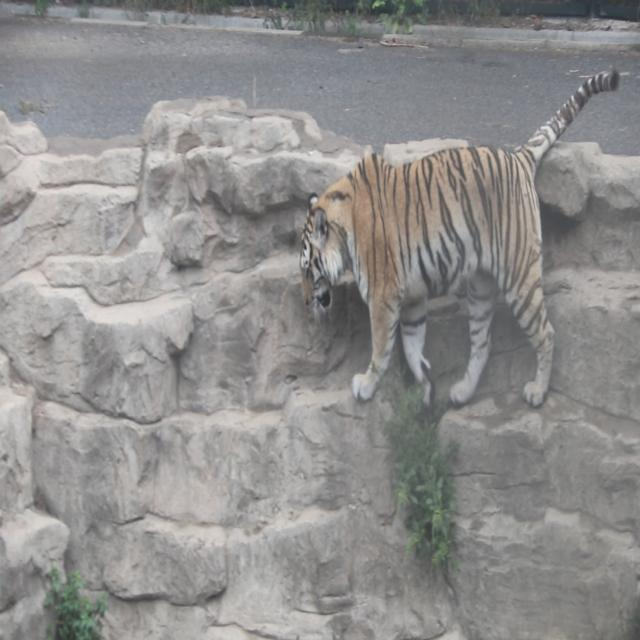Tiger: (290, 60, 627, 468)
